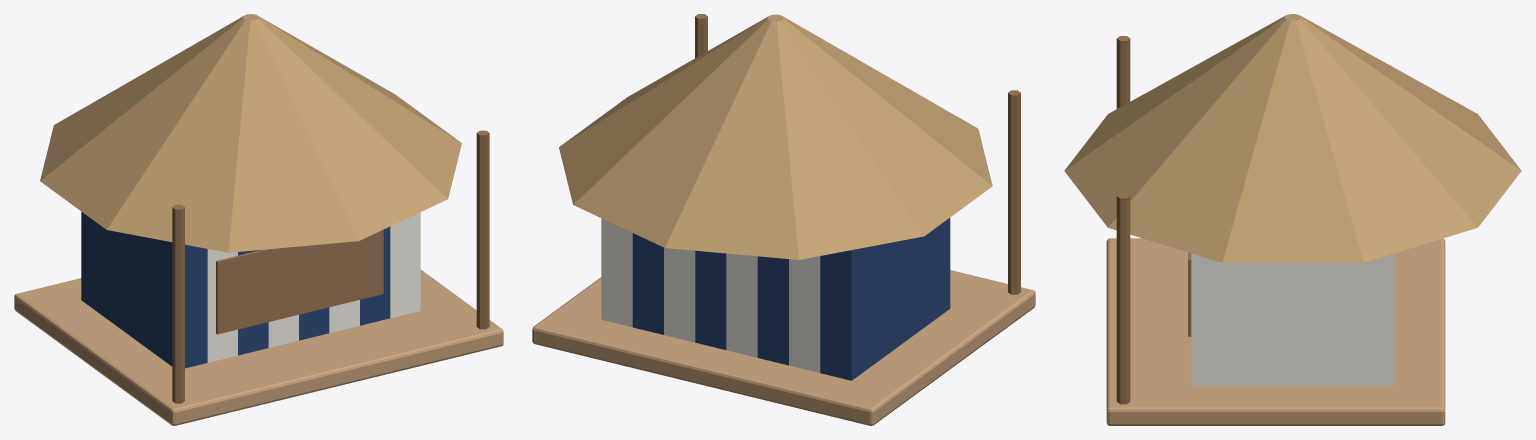
The model's file is m_beachshack.gltf.
The picture shows the model from 3 angles, left to right: view 1: azimuth 30°, elevation 25°; view 2: azimuth 150°, elevation 25°; view 3: azimuth 270°, elevation 25°; orthographic projection. The views are drawn at different scales.
Parts seen in each view (by area): view 1: m_beachshack; view 2: m_beachshack; view 3: m_beachshack.
Part boxes in pixels (bbox=[...]): m_beachshack: bbox=[14, 14, 503, 425]; m_beachshack: bbox=[532, 14, 1035, 425]; m_beachshack: bbox=[1064, 14, 1521, 425].
Size of the model in its own units: 2.57 by 2.11 by 2.7.
Materials: 1 (1 with a texture image).
